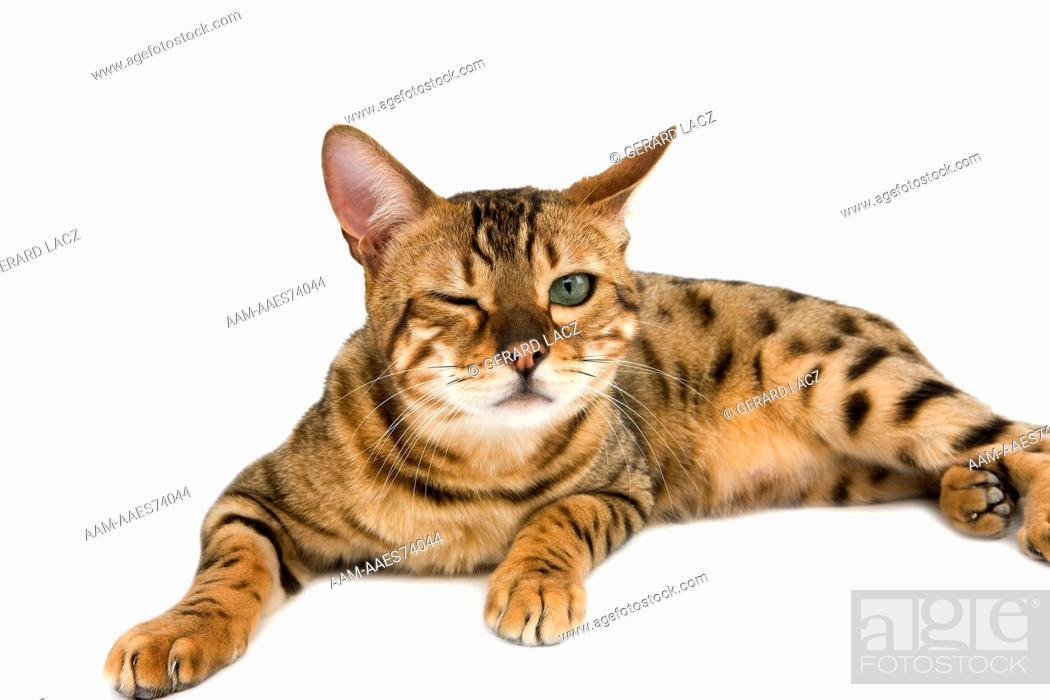bengal: (316, 92, 686, 443)
